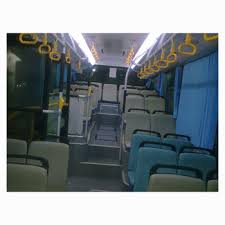seat: (124, 109, 146, 150)
